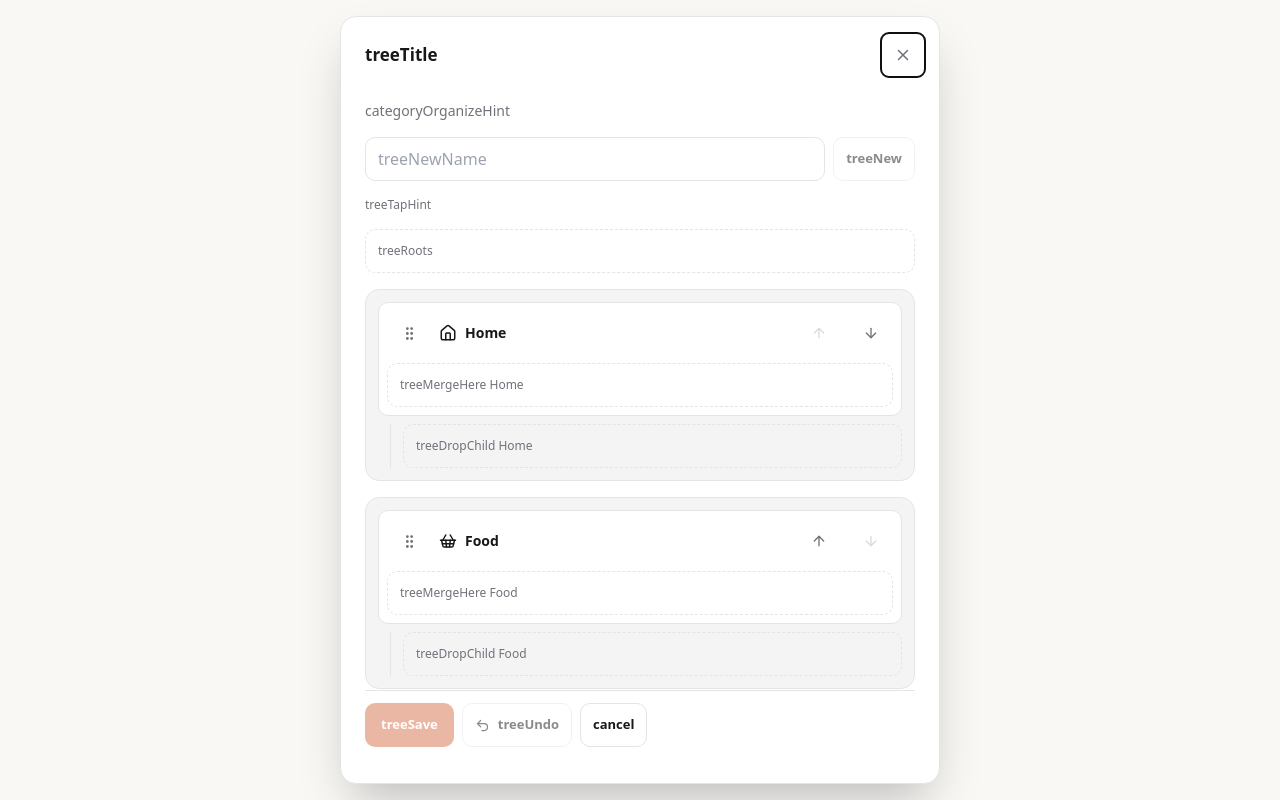
Test: blocks a stale draft until explicit reload instead of adopting a new revision silently
This screenshot has width=1280, height=800.
Click the button named "treeDrag Food" at (409, 541), box [387,519,431,563]
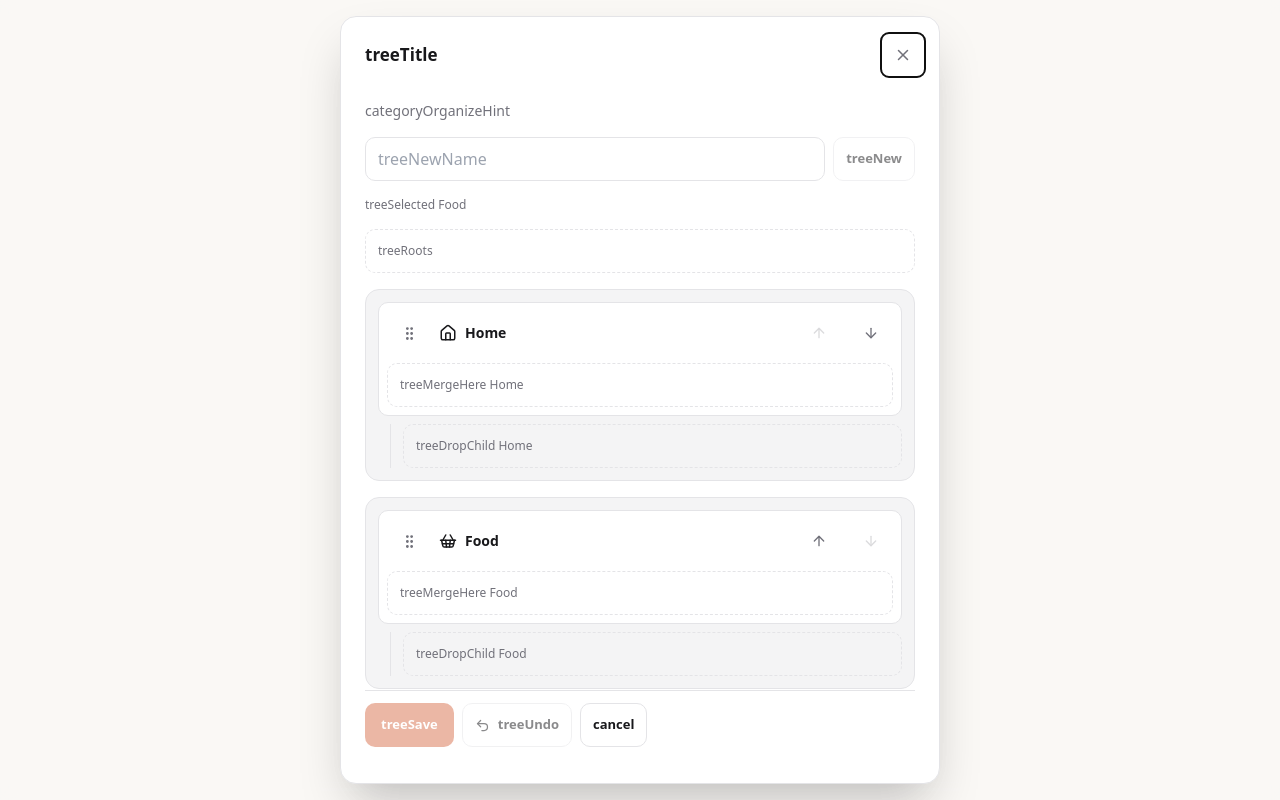
Click the button "treeDropChild Home" at (474, 446), box [403,424,902,468]
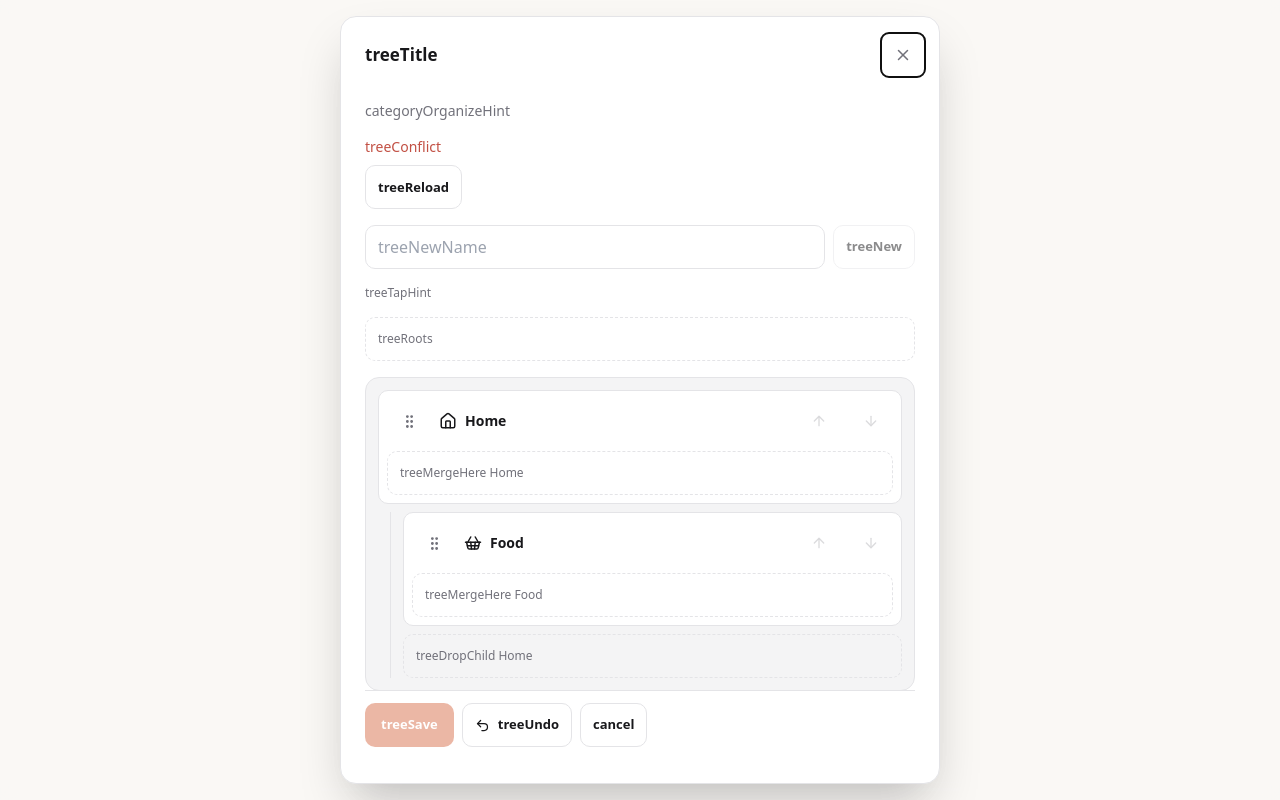
Check: the button "treeSave" is disabled, box [365,703,454,747]
Check: the text "treeConflict" is shown, box [365,137,441,156]
